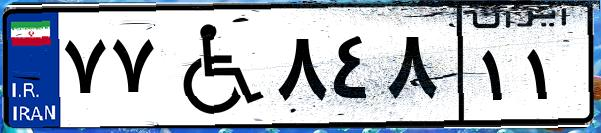1: (475, 38, 525, 113), (525, 38, 570, 115)
4: (330, 28, 385, 110)
7: (57, 26, 110, 100), (110, 28, 158, 98)
8: (270, 28, 330, 110), (385, 28, 445, 110)
ژ (معلولین و جانبازان): (158, 12, 270, 120)
